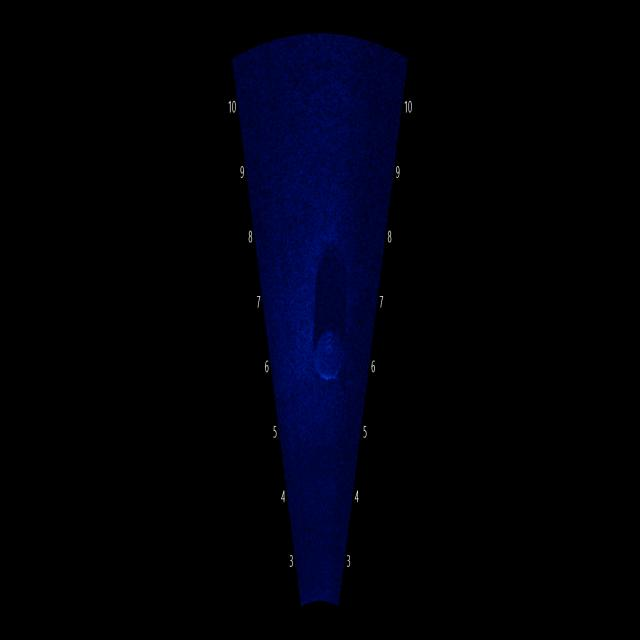circle: (308, 314, 346, 389)
